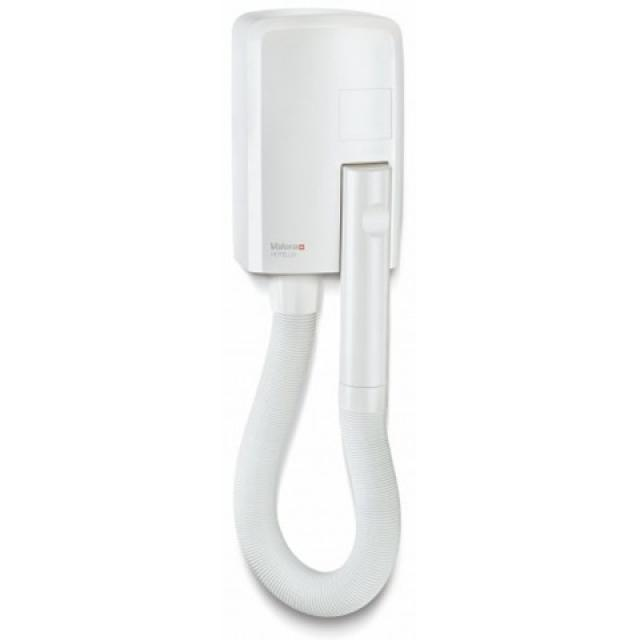dryer: (214, 4, 436, 630)
